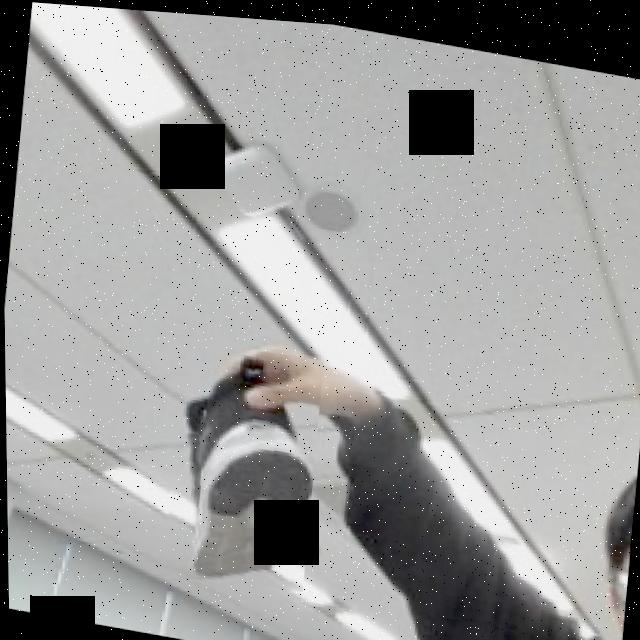shoe: (151, 331, 325, 594)
